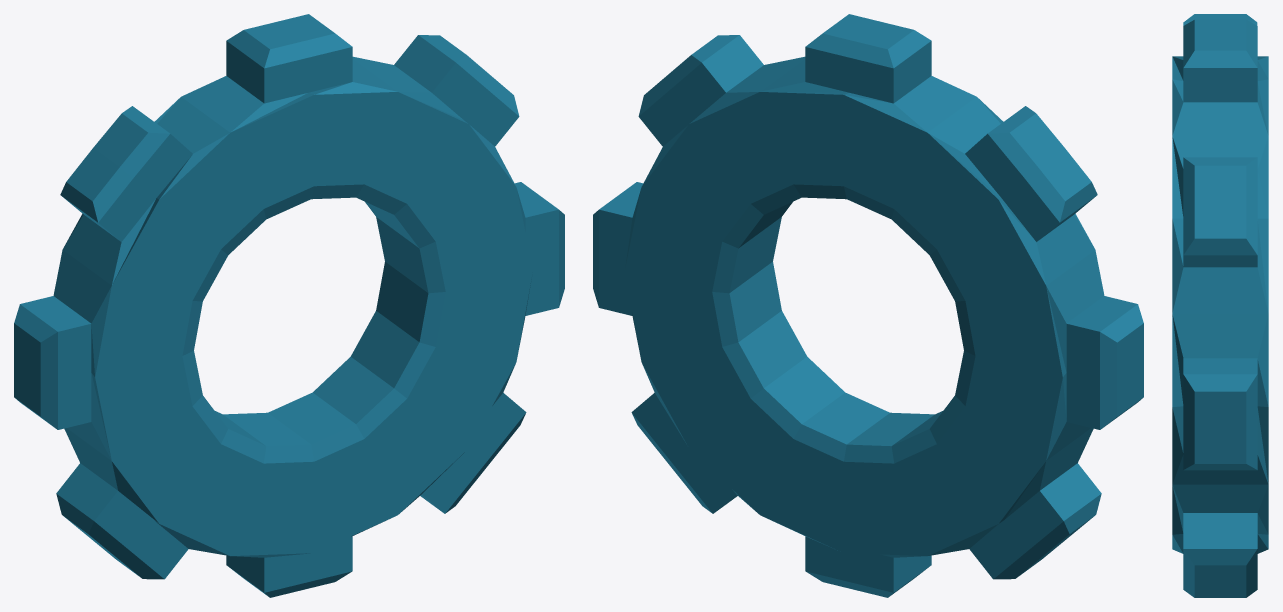
The model's file is OBS0110044.fbx.
3 views of the same model, side by side, from view 1: azimuth 30°, elevation 25°; view 2: azimuth 150°, elevation 25°; view 3: azimuth 270°, elevation 25° (orthographic). The views are drawn at different scales.
Parts seen in each view (by area): view 1: smOBS0110044; view 2: smOBS0110044; view 3: smOBS0110044.
Boxes of the visible parts, box(x1,y1,x2,y2) form: smOBS0110044: box(14, 14, 564, 597); smOBS0110044: box(593, 14, 1143, 597); smOBS0110044: box(1172, 14, 1268, 597).
Bounding box in the file's own units: 285 × 285 × 46.44.
Materials: 1 (1 with a texture image).
